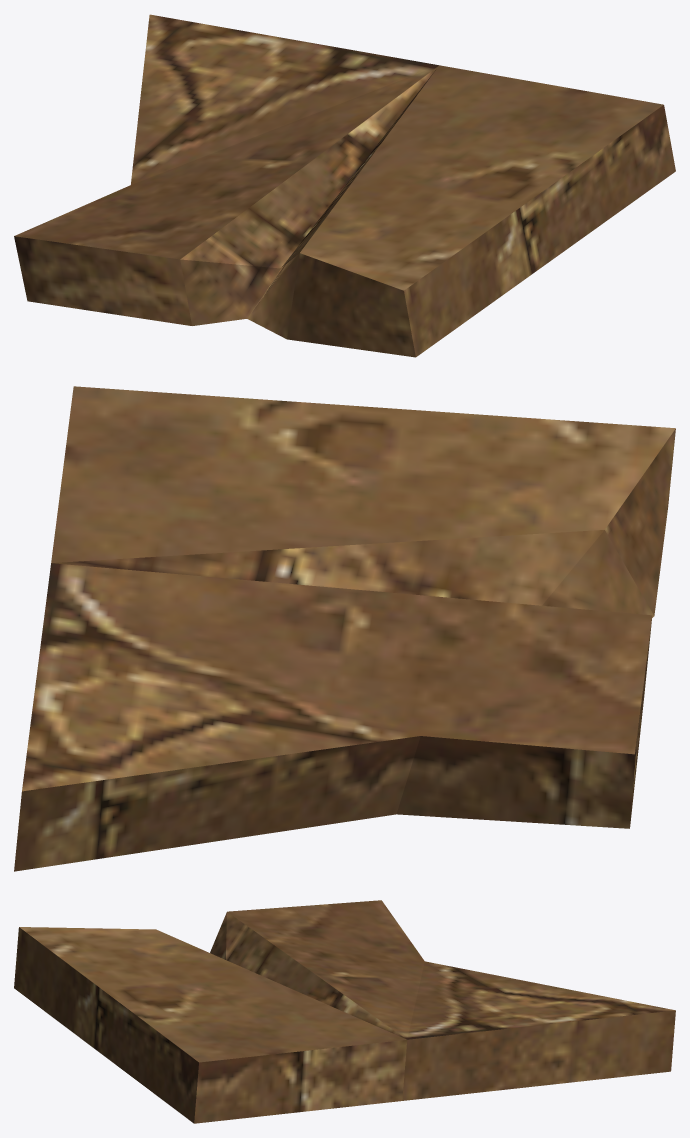
Rendered from Scene_suishi_008.FBX.
3 views of the same model, one above another, from view 1: azimuth 30°, elevation 25°; view 2: azimuth 150°, elevation 25°; view 3: azimuth 270°, elevation 25° (orthographic). The views are drawn at different scales.
Parts seen in each view (by area): view 1: Scene_suishi_008; view 2: Scene_suishi_008; view 3: Scene_suishi_008.
Boxes of the visible parts, box(x1,y1,x2,y2) form: Scene_suishi_008: box(14, 14, 675, 357); Scene_suishi_008: box(14, 386, 675, 871); Scene_suishi_008: box(14, 900, 675, 1123).
Bounding box in the file's own units: 2.07 × 0.515 × 2.49.
